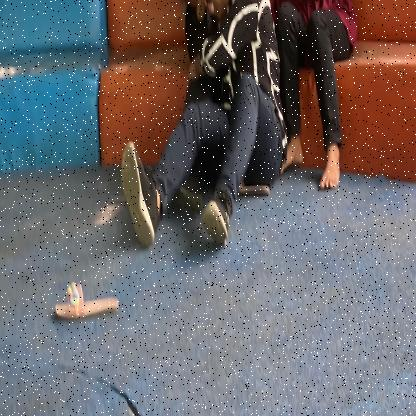leg: (108, 97, 192, 247), (200, 110, 256, 258), (313, 45, 350, 198), (272, 35, 309, 186)
